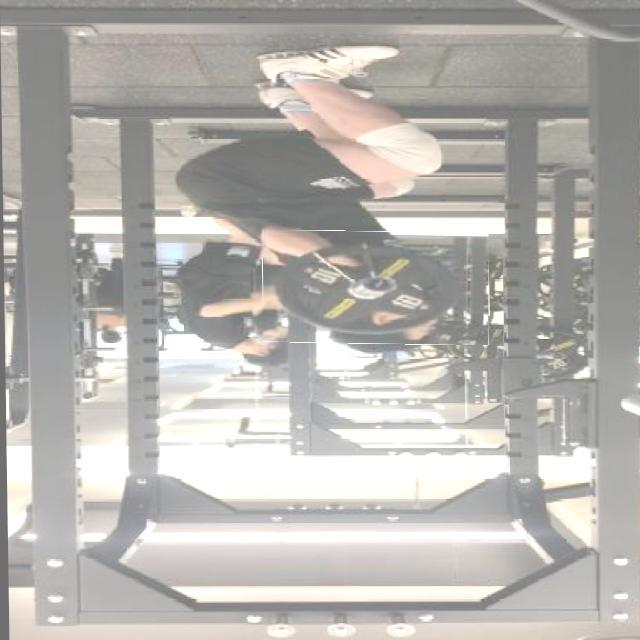barbell: (262, 231, 490, 345)
